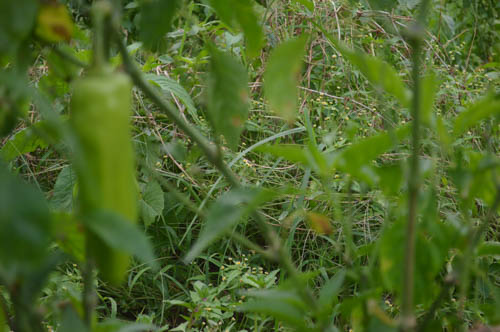ChiliPepper: (71, 77, 134, 282)
